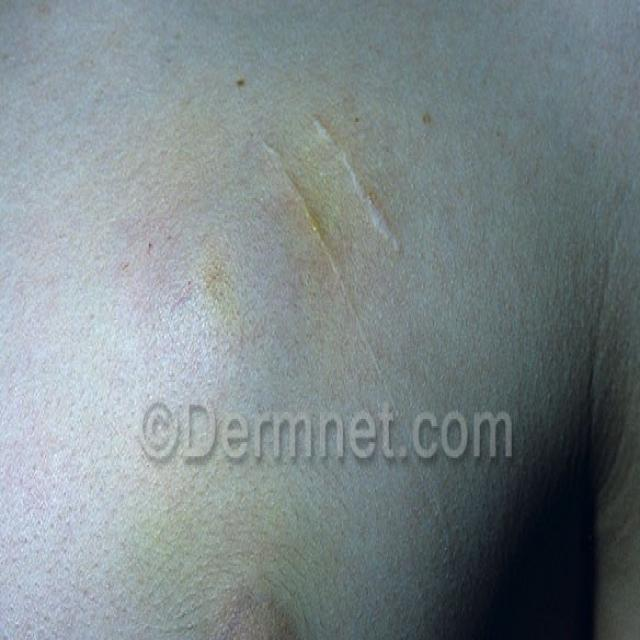Vascular Tumors: (240, 93, 516, 561)
